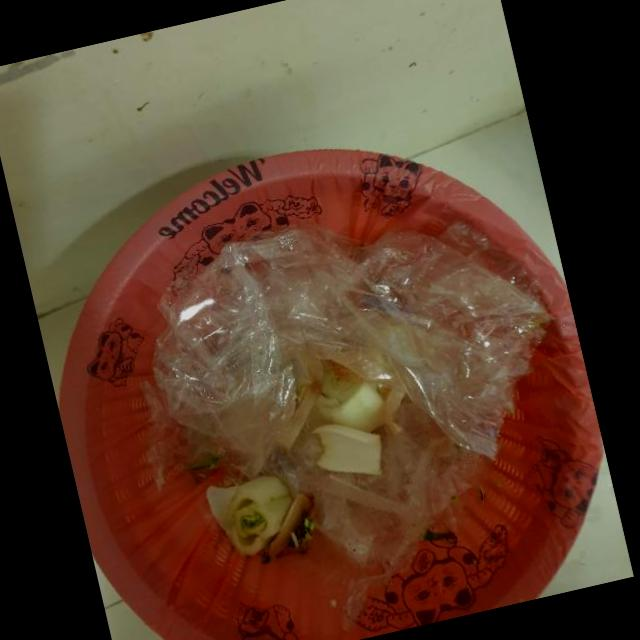tui_ni_long: (138, 224, 554, 633)
vo_rau_cu: (205, 476, 316, 562), (312, 370, 385, 430), (312, 422, 383, 474)
